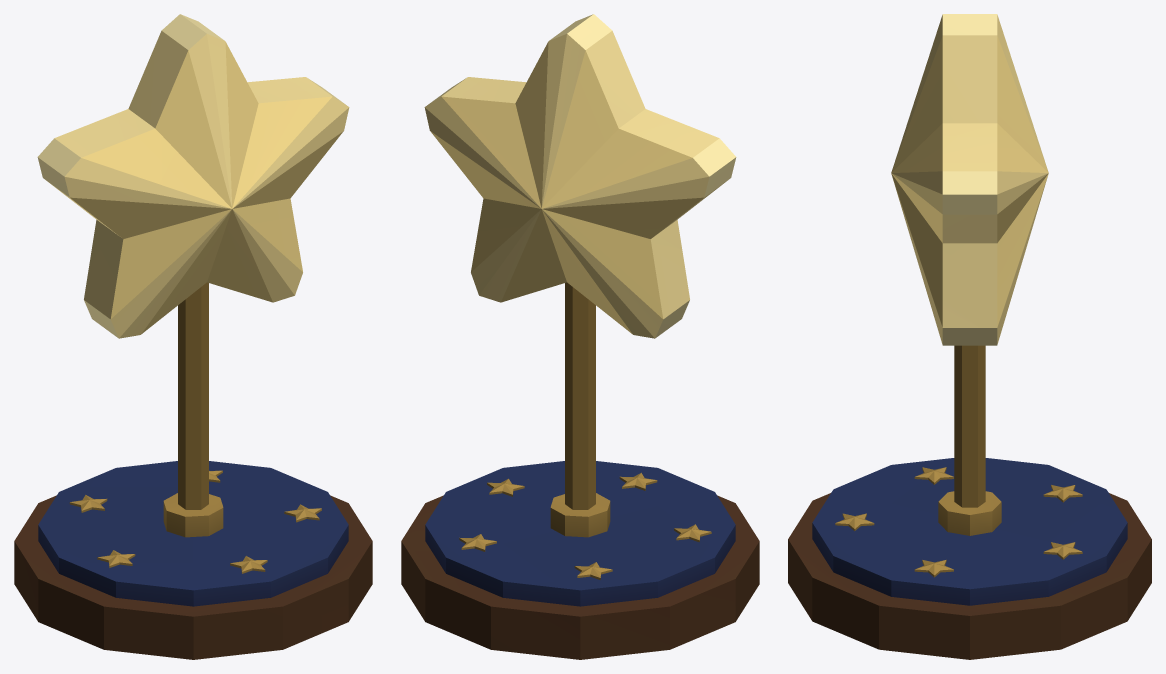
File: star_lamp_low.glb
3 views of the same model, side by side, from view 1: azimuth 30°, elevation 25°; view 2: azimuth 150°, elevation 25°; view 3: azimuth 270°, elevation 25° (orthographic).
Parts seen in each view (by area): view 1: star_lamp; view 2: star_lamp; view 3: star_lamp.
Part boxes in pixels (<box>): star_lamp: <box>14,14,372,659</box>; star_lamp: <box>401,14,759,659</box>; star_lamp: <box>788,14,1151,659</box>.
Bounding box in the file's own units: 0.3 × 0.5178 × 0.3.
